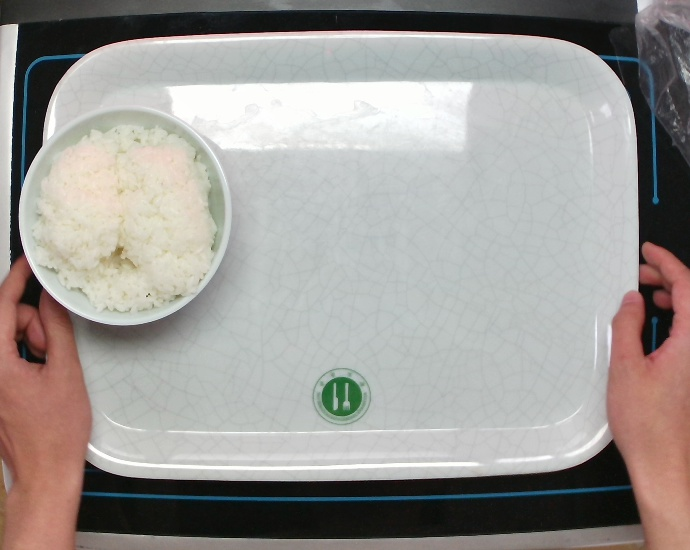JYsf-Fan_Wan: (15, 101, 236, 328)
